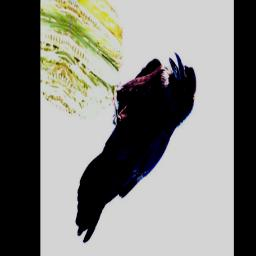Crow: (71, 10, 199, 256)
